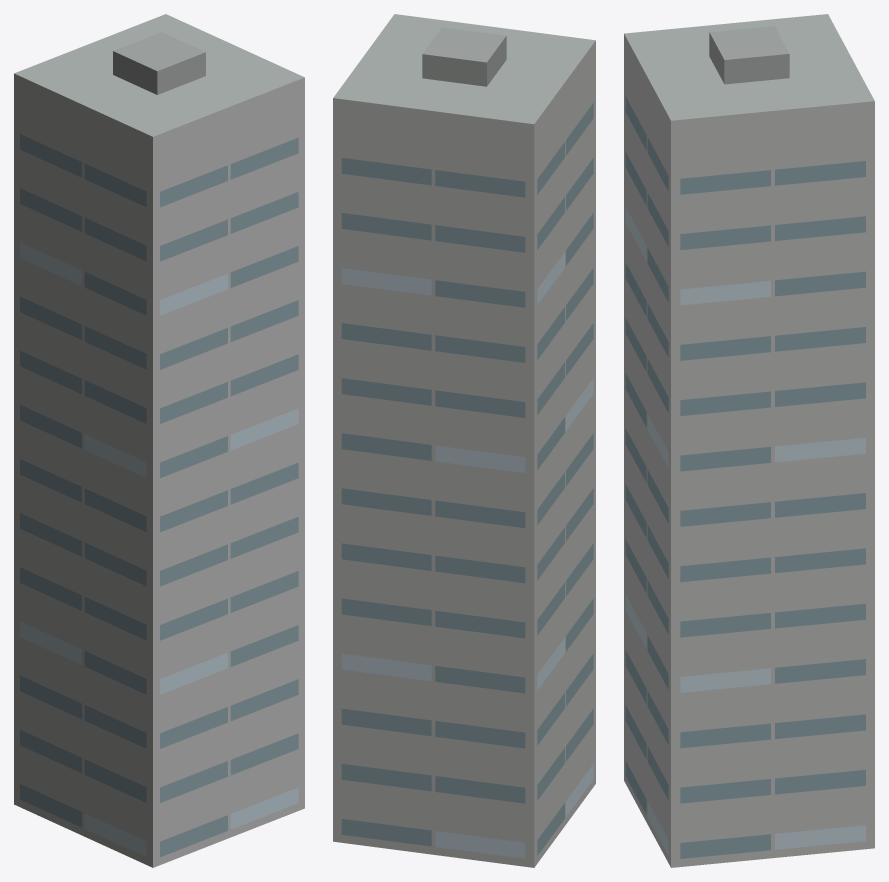
File: fallback-gwanak-dream-town-118.glb
The picture shows the model from 3 angles, left to right: view 1: azimuth 30°, elevation 25°; view 2: azimuth 150°, elevation 25°; view 3: azimuth 270°, elevation 25°; orthographic projection. The views are drawn at different scales.
Visible parts, largest first — view 1: fallback-gwanak-dream-town-118; view 2: fallback-gwanak-dream-town-118; view 3: fallback-gwanak-dream-town-118.
Part boxes in pixels (x1,y1,x2,y2): fallback-gwanak-dream-town-118: (14, 14, 304, 867); fallback-gwanak-dream-town-118: (333, 14, 595, 867); fallback-gwanak-dream-town-118: (624, 14, 874, 867).
Bounding box in the file's own units: 22.56 × 76 × 22.4.
